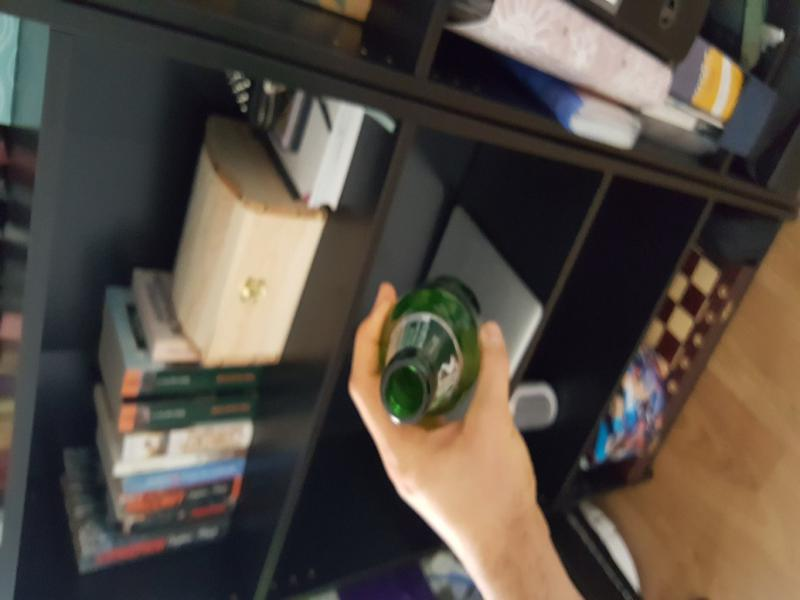Beer: (382, 277, 486, 425)
